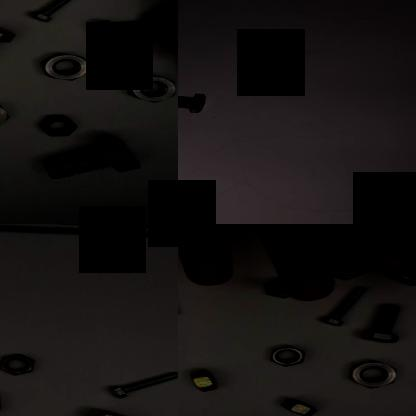Bolts: (35, 130, 143, 188), (102, 365, 178, 401), (320, 282, 374, 328), (93, 13, 167, 44), (358, 300, 410, 344), (22, 0, 95, 23), (0, 16, 16, 86), (178, 91, 210, 113)
NUTS: (38, 50, 106, 82), (341, 356, 402, 390), (124, 71, 178, 102), (264, 343, 313, 368), (186, 364, 224, 394), (0, 349, 43, 375), (38, 110, 79, 136), (274, 396, 322, 416), (0, 386, 16, 416)
